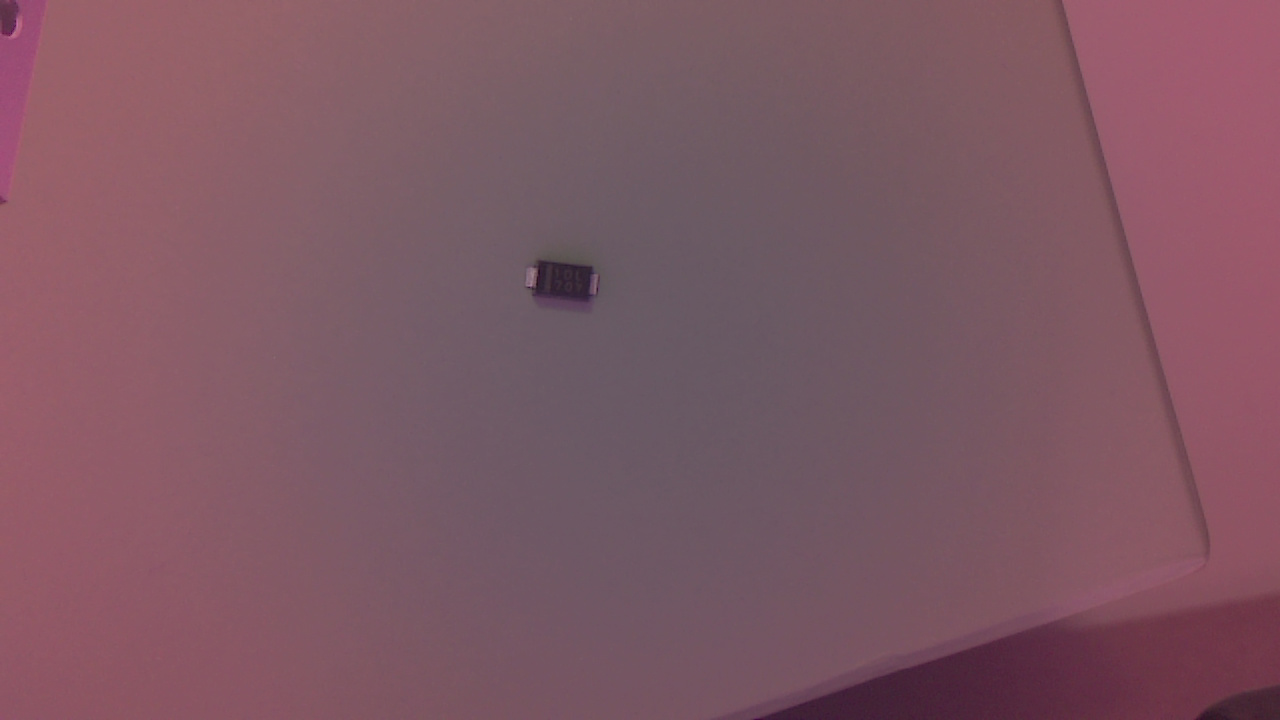Diode: (526, 257, 606, 311)
